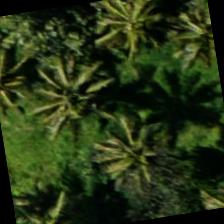Kelapa_Sawit: (71, 96, 174, 200), (16, 49, 119, 152), (83, 121, 187, 223), (39, 42, 142, 144), (74, 0, 174, 70), (154, 0, 221, 93), (0, 27, 52, 125), (10, 170, 98, 223)
